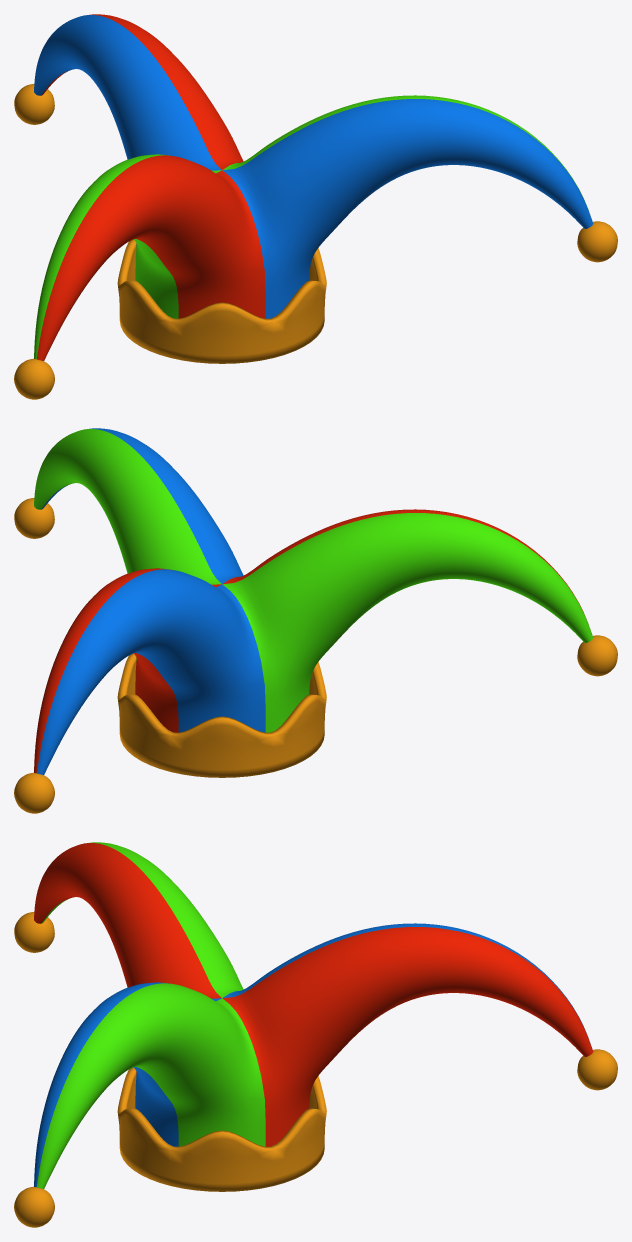
The model's file is jokerHat.fbx.
3 renders of one model, top to bottom at view 1: azimuth 30°, elevation 25°; view 2: azimuth 150°, elevation 25°; view 3: azimuth 270°, elevation 25°, orthographic.
Visible parts, largest first — view 1: NurbsPath.001; view 2: NurbsPath.001; view 3: NurbsPath.001.
Boxes of the visible parts, bbox=[...] form: NurbsPath.001: bbox=[14, 14, 617, 399]; NurbsPath.001: bbox=[14, 428, 617, 813]; NurbsPath.001: bbox=[14, 842, 617, 1227].
Bounding box in the file's own units: 1114 × 394 × 973.
